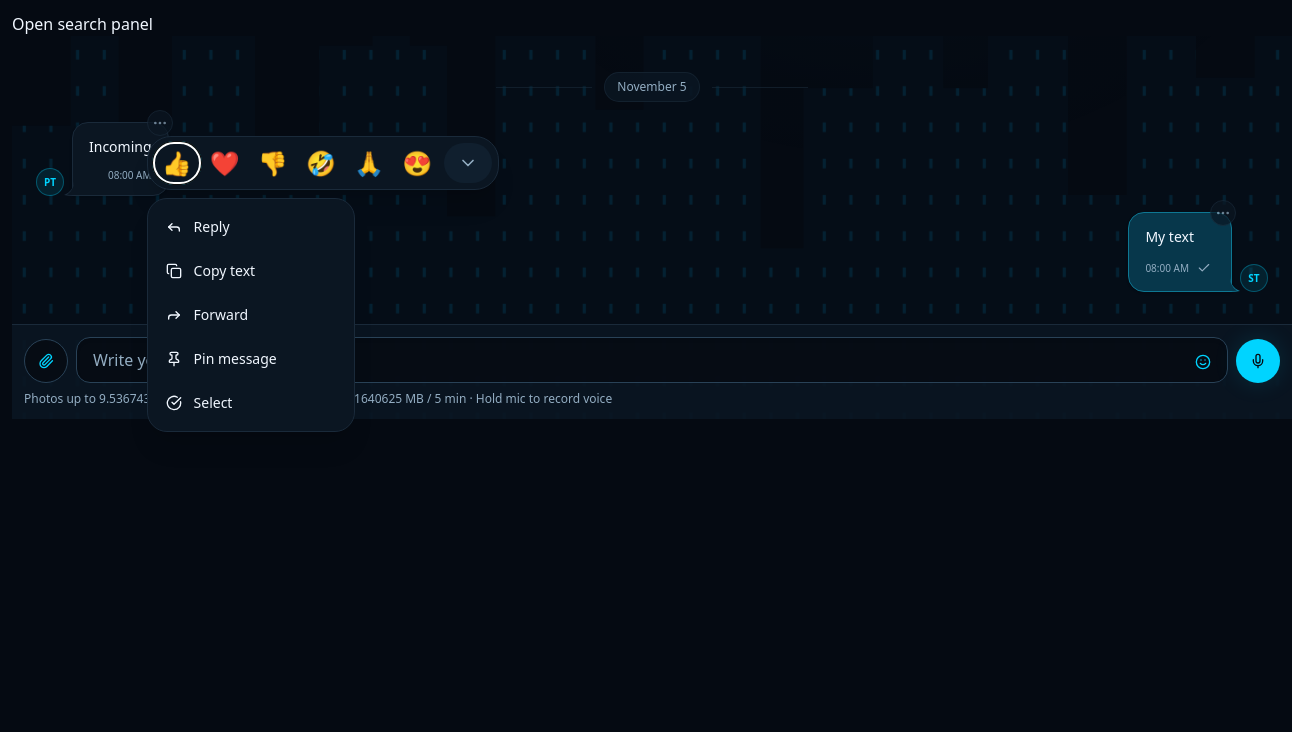
Test case: chat attachments › replies to any message, edits only own messages, restores drafts and displays edited beside the time
This screenshot has width=1292, height=732.
Earlier steps of the test are not shown.
expect the menu item "Edit" is not shown: met
expect the menu item "Delete" is not shown: met
Click the menu item "Reply".
click(251, 227)  # box [154,205,348,249]
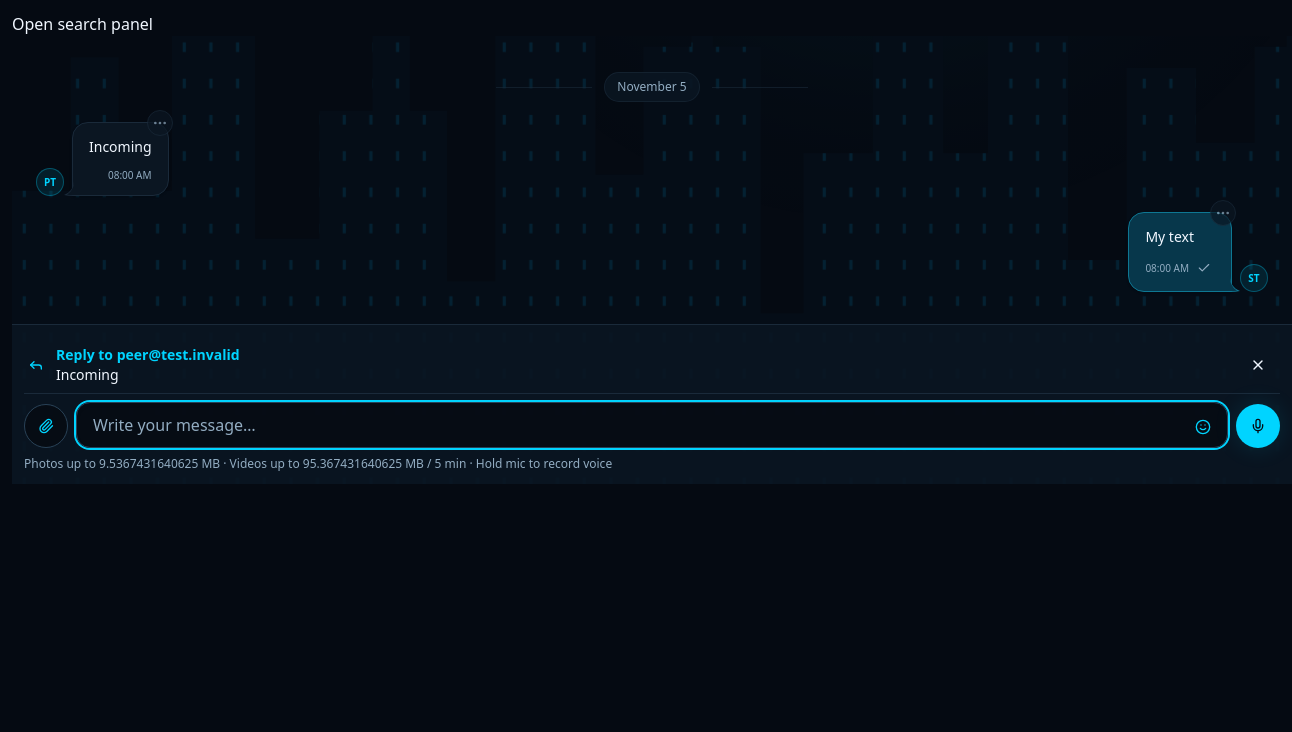
Type "Answer" into the text box labelled "message".
click(630, 425); type("Answer")  # box [77,403,1183,447]
Click the button named "Send message".
click(1258, 426)  # box [1236,404,1280,448]
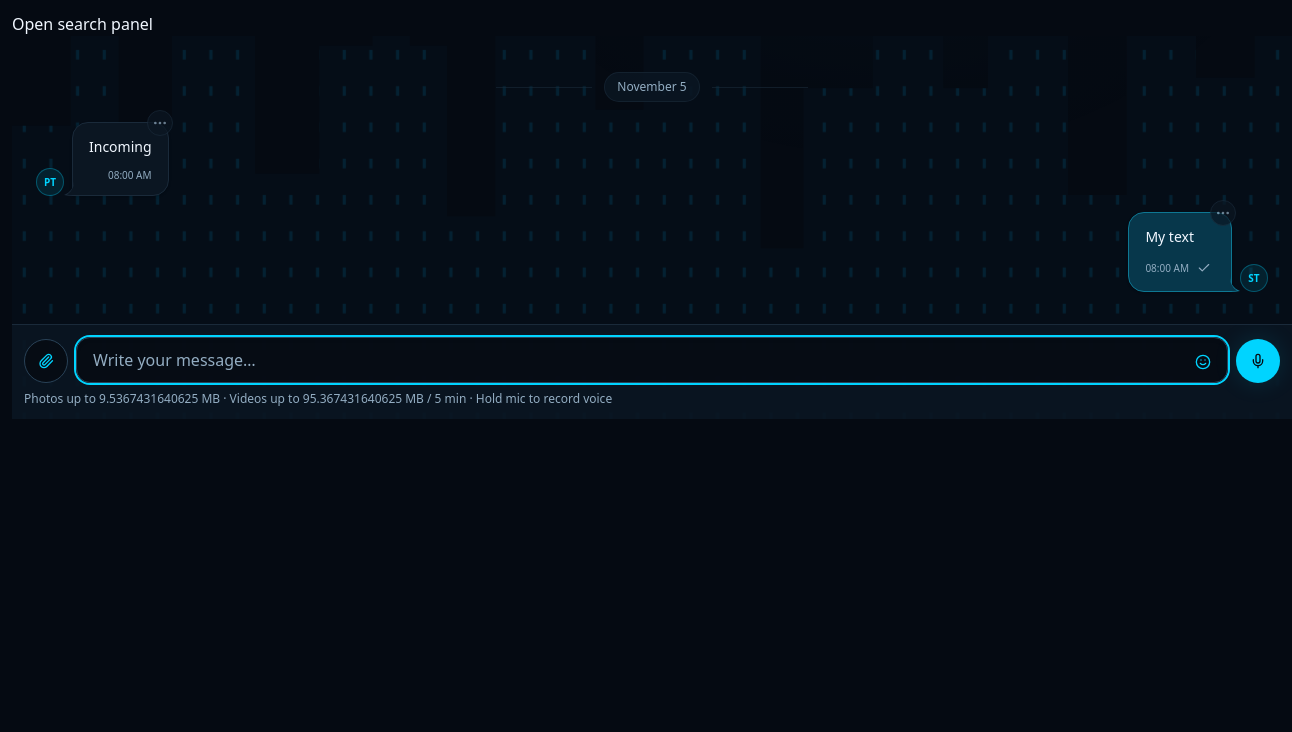
Type "Unsent draft" into the text box labelled "message".
click(630, 360); type("Unsent draft")  # box [77,338,1183,382]
Click the button named "Message actions 2".
click(1223, 213)  # box [1210,200,1236,226]
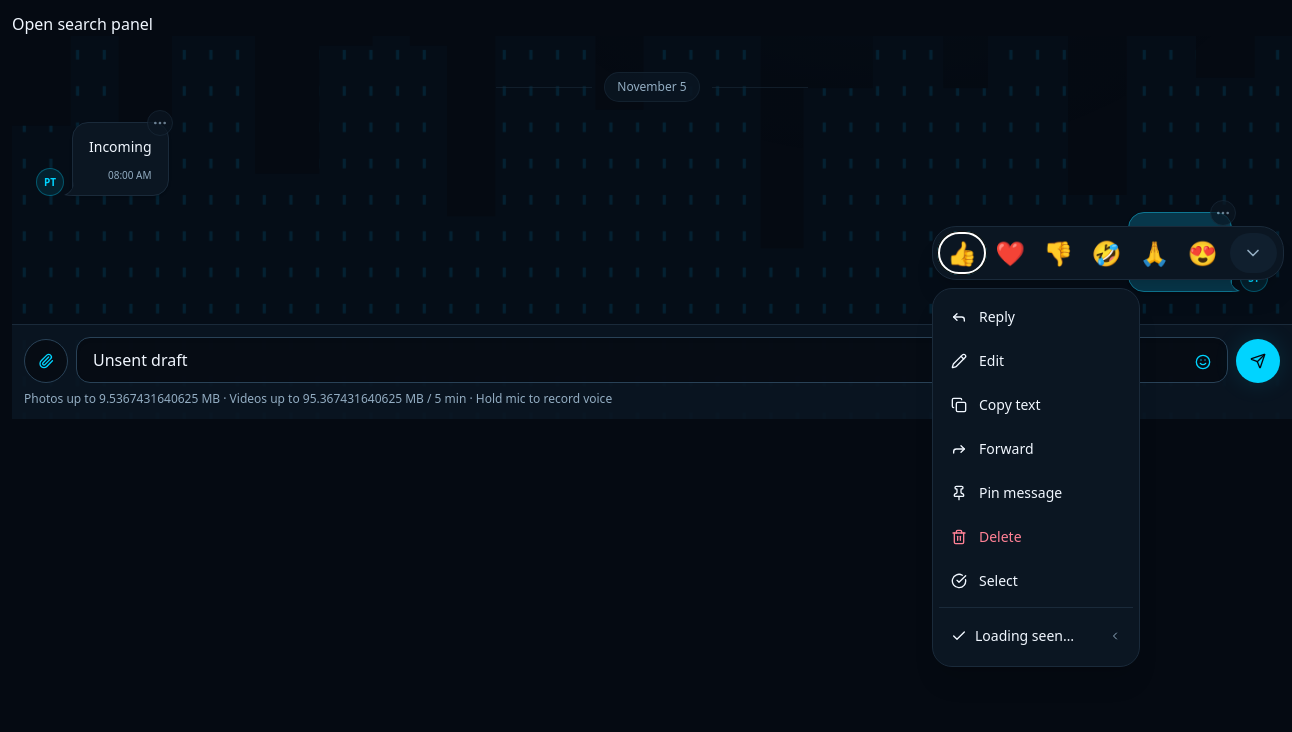
Click the menu item "Edit".
click(1036, 361)  # box [939,339,1133,383]
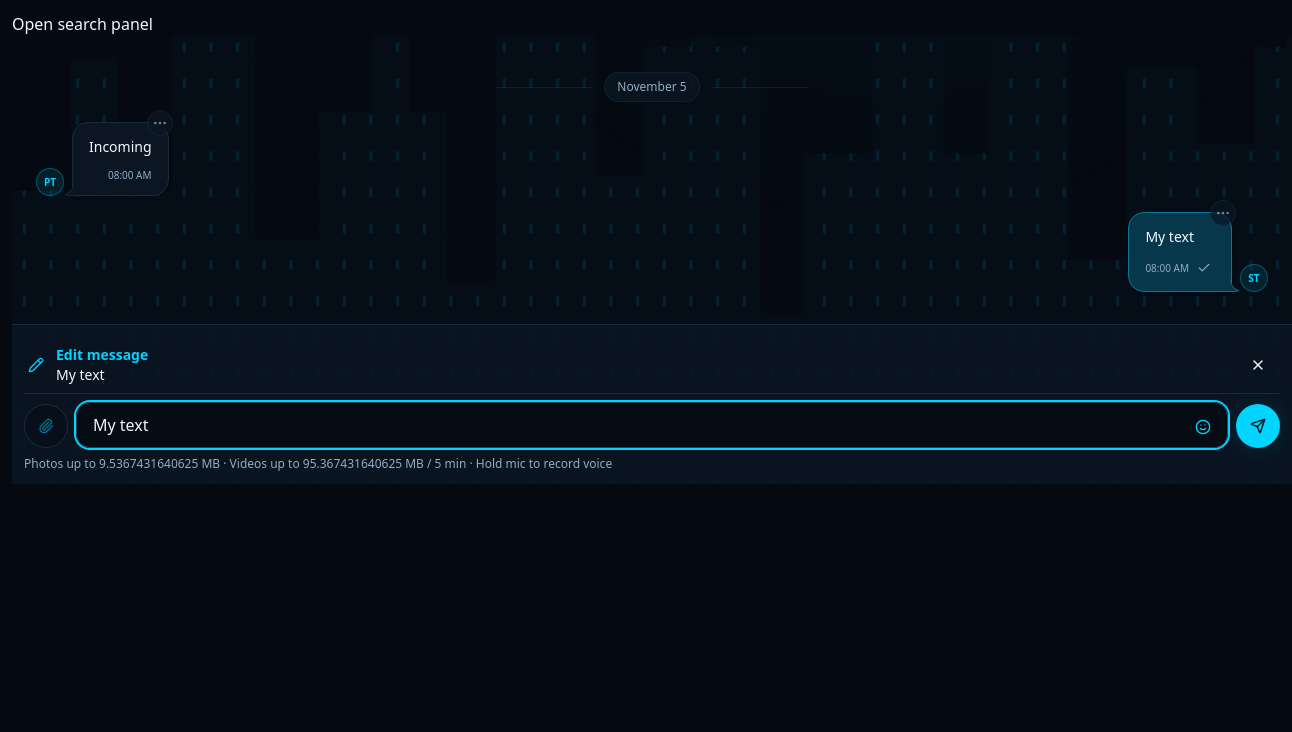
expect the text box named "message" holds "My text": met
Replace the text in the text box named "message" with "Corrected" at [630, 425], box [77,403,1183,447]
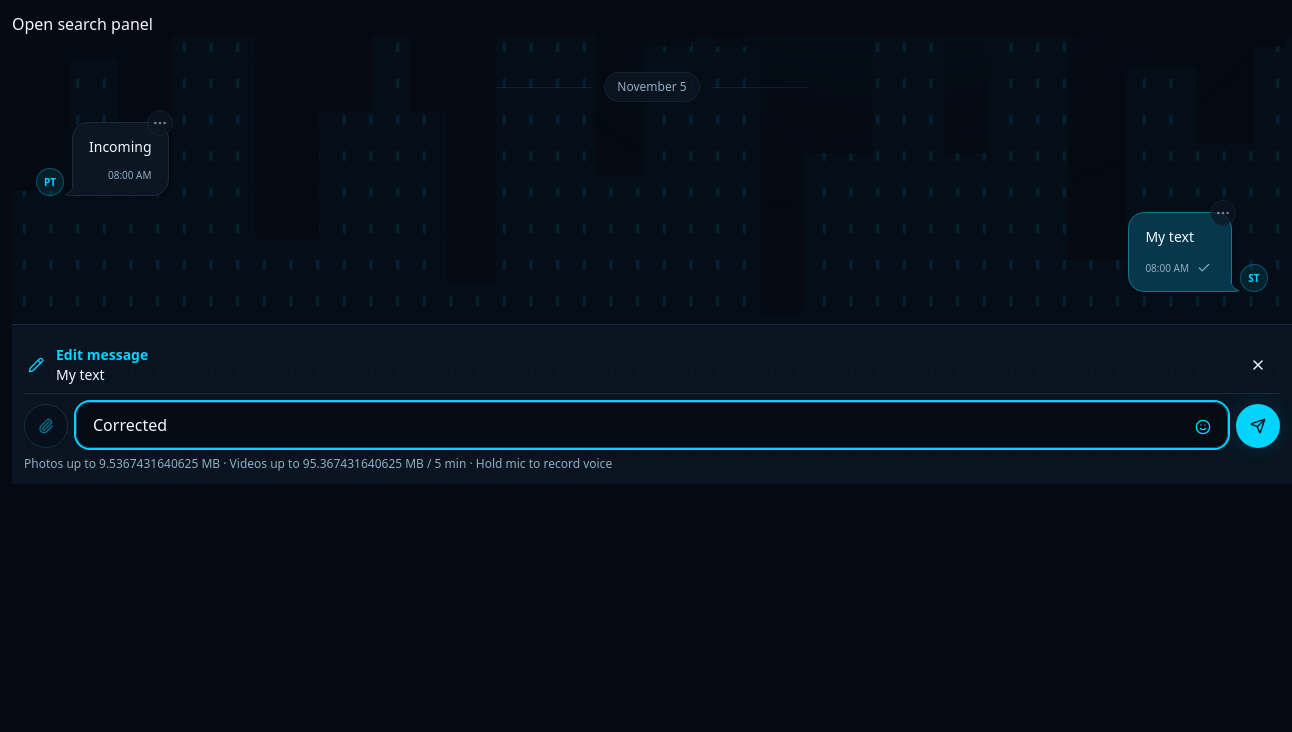
Click the button named "Save edited message".
click(1258, 426)  # box [1236,404,1280,448]
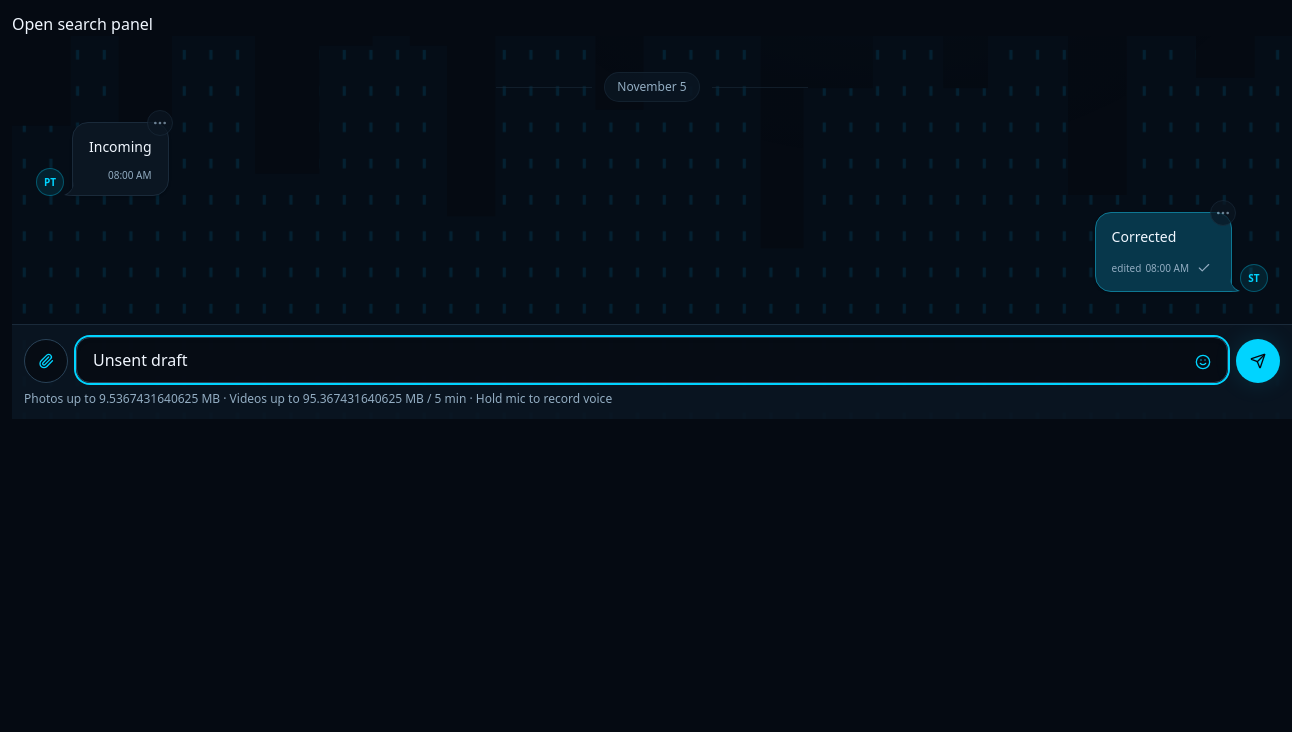
expect the text "edited" is shown: met, box [1112,260,1141,276]
